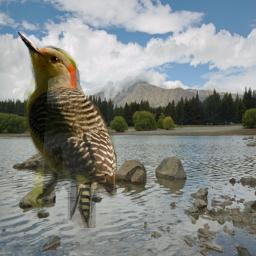Woodpecker: (16, 31, 117, 228)
